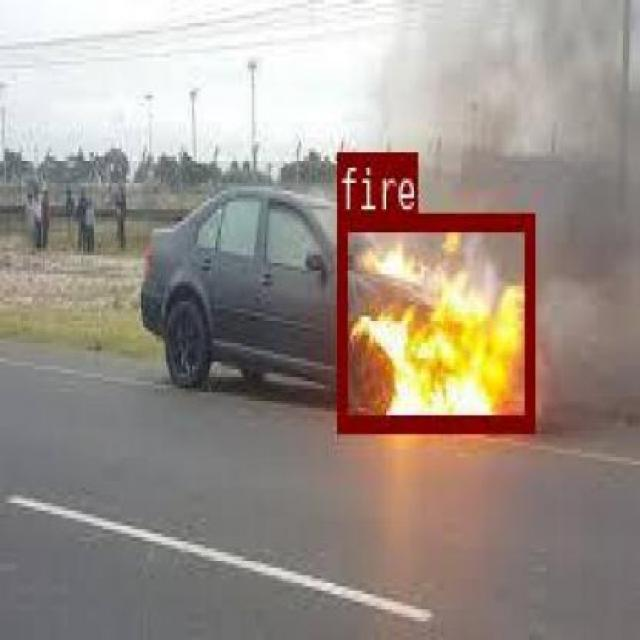Fire: (337, 210, 532, 428)
